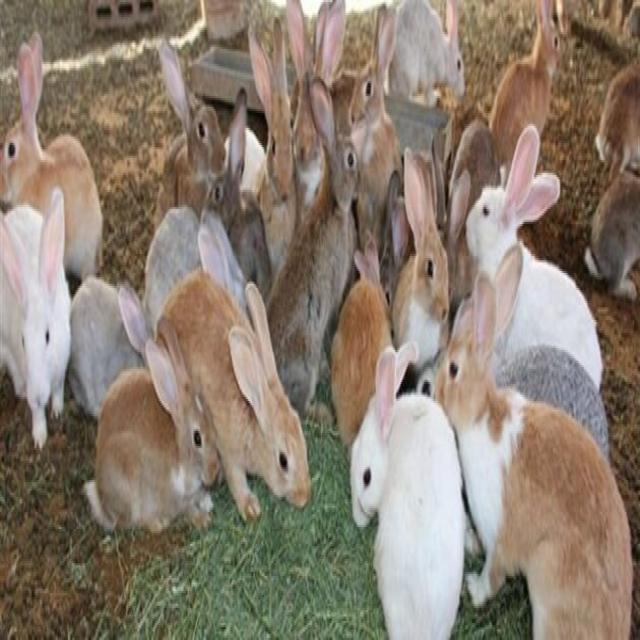rabbit: (443, 343, 624, 631), (170, 256, 312, 521), (471, 158, 600, 420), (355, 388, 464, 631), (270, 123, 378, 368), (68, 251, 174, 489), (327, 238, 434, 452), (144, 41, 251, 254), (110, 346, 218, 554), (347, 32, 448, 247), (6, 60, 115, 244), (182, 128, 283, 315), (486, 0, 583, 183), (388, 158, 466, 366), (385, 7, 472, 185), (0, 190, 56, 428)
